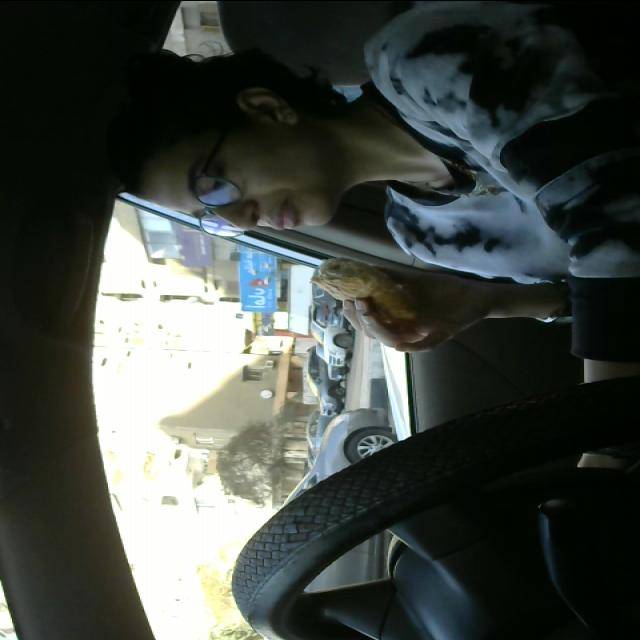eating: (302, 252, 434, 326)
